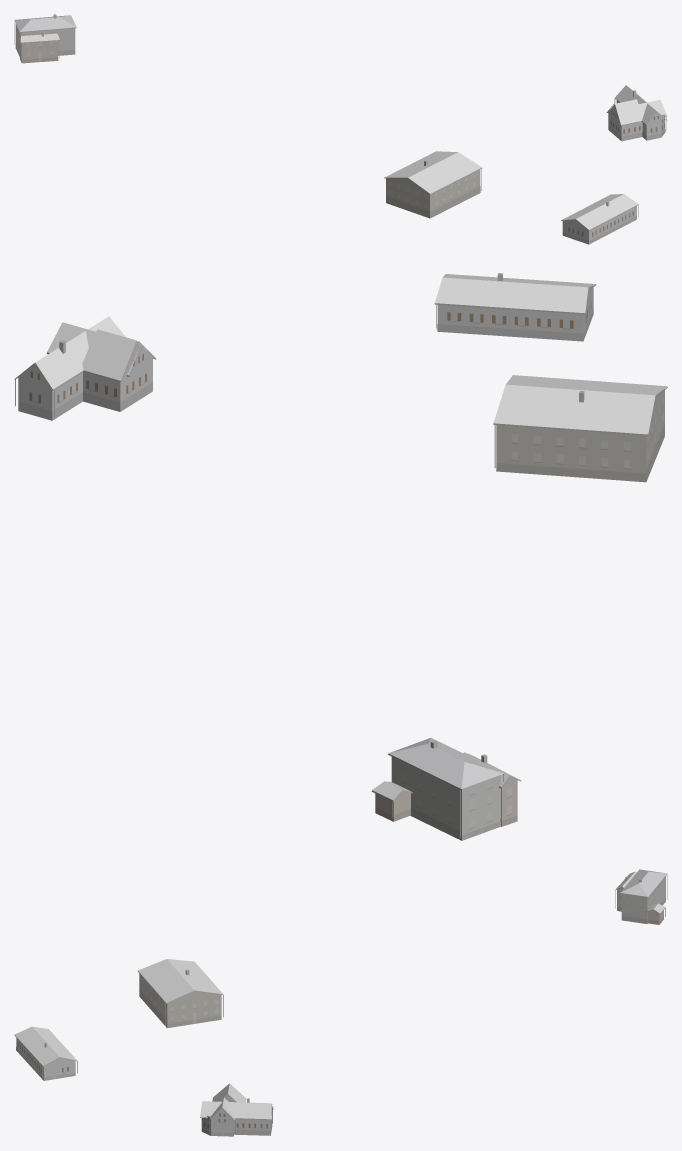
The picture shows the model from 3 angles, top to bottom: view 1: azimuth 30°, elevation 25°; view 2: azimuth 150°, elevation 25°; view 3: azimuth 270°, elevation 25°; orthographic projection. The views are drawn at different scales.
Visible parts, largest first — view 1: bld; view 2: bld; view 3: bld.
Boxes of the visible parts, box(x1,y1,x2,y2) form: bld: box(14, 14, 667, 244); bld: box(14, 273, 667, 840); bld: box(14, 869, 667, 1136).
Size of the model in its own units: 138 by 17.76 by 175.
